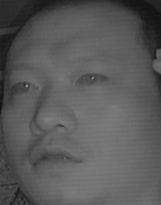eye: (75, 68, 109, 88), (9, 76, 43, 95)
mouth: (27, 140, 89, 176)
